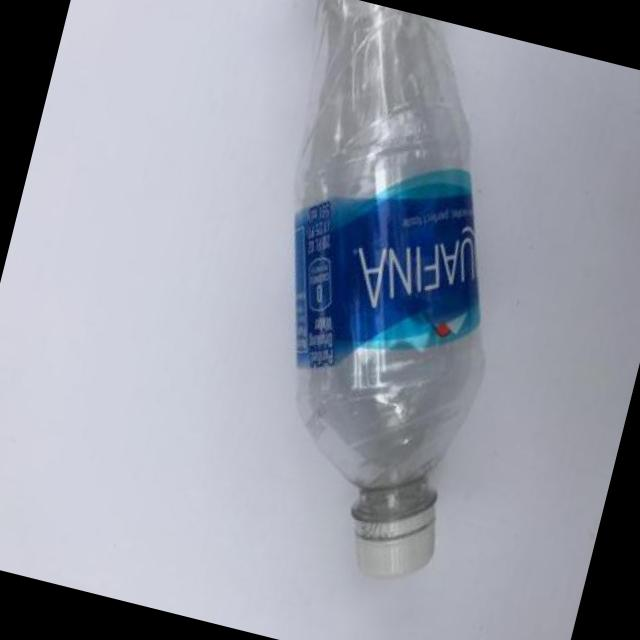plastic_bottle: (183, 0, 563, 591)
